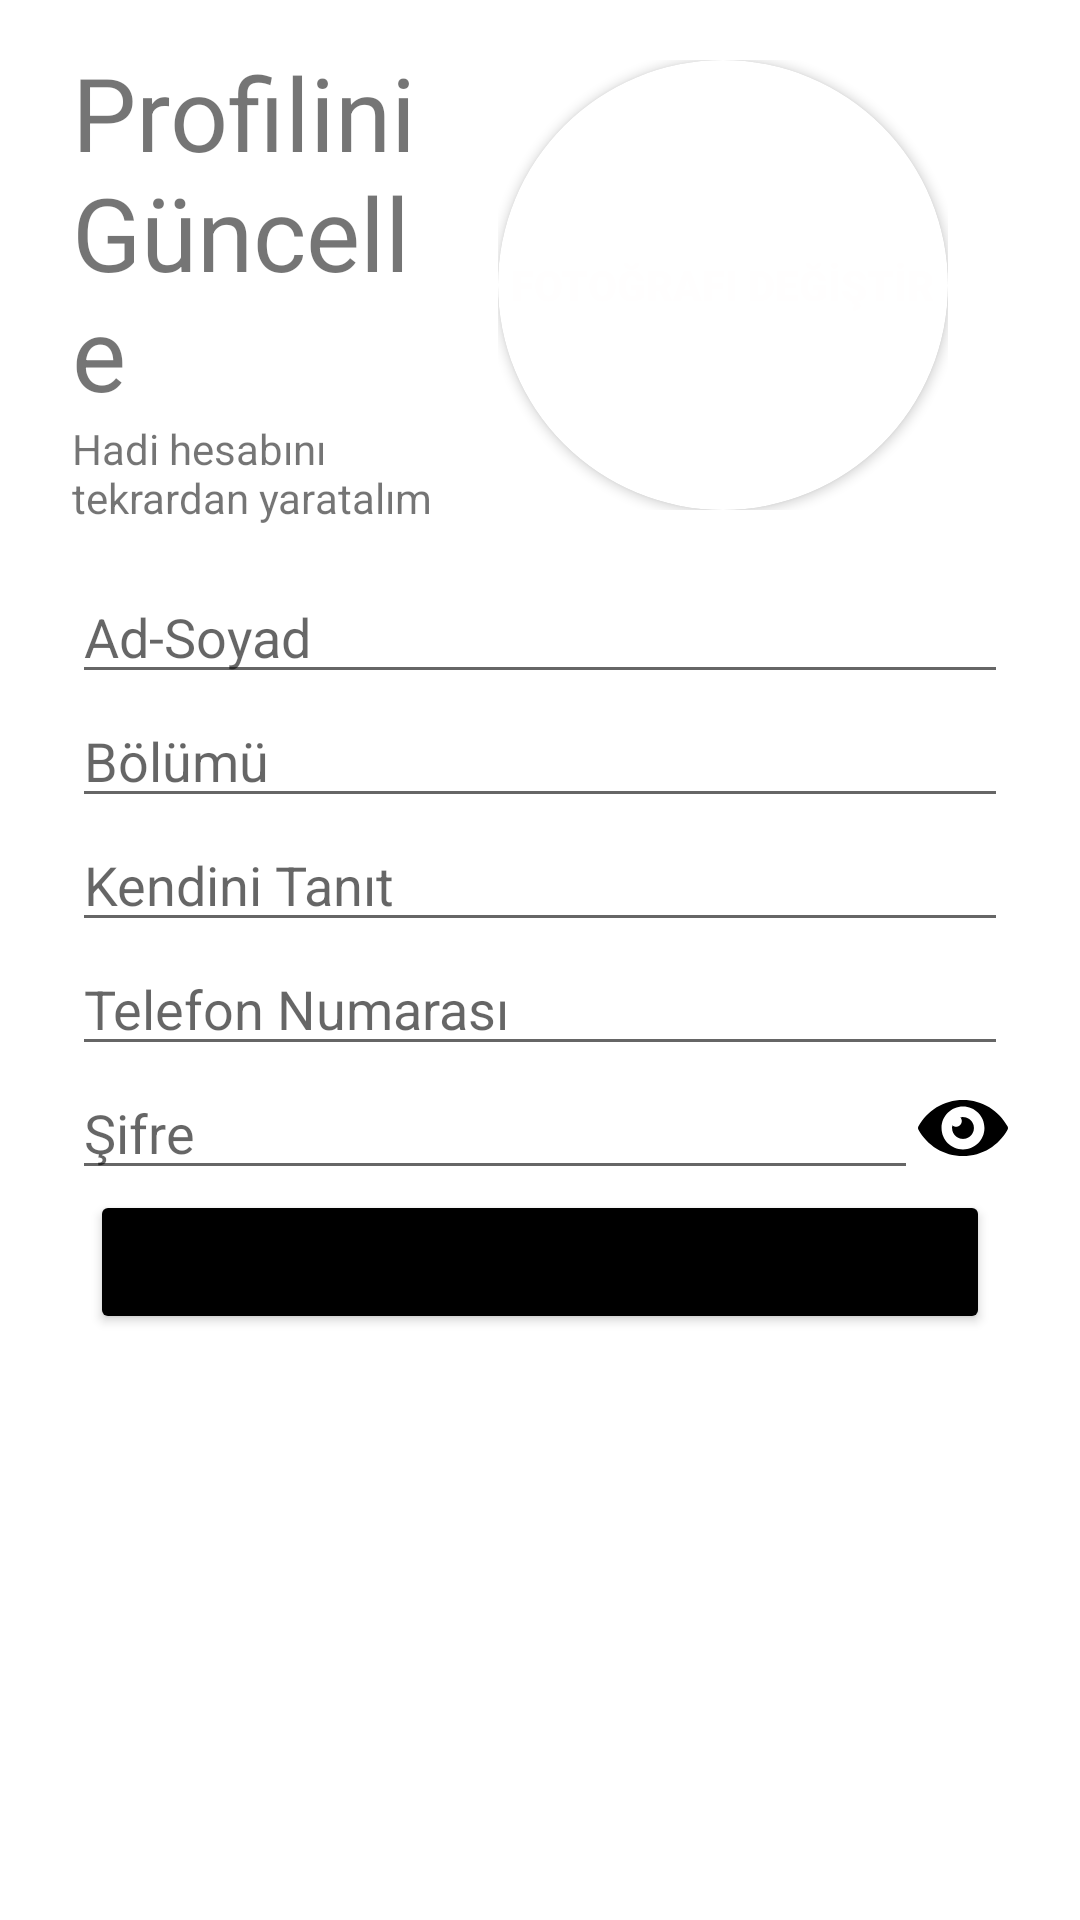

Icons on this 1080w x 1920h Android screen, each with its box as bbox=[x1, y1, x2, y2]:
eye: bbox=[918, 1100, 1008, 1156]
